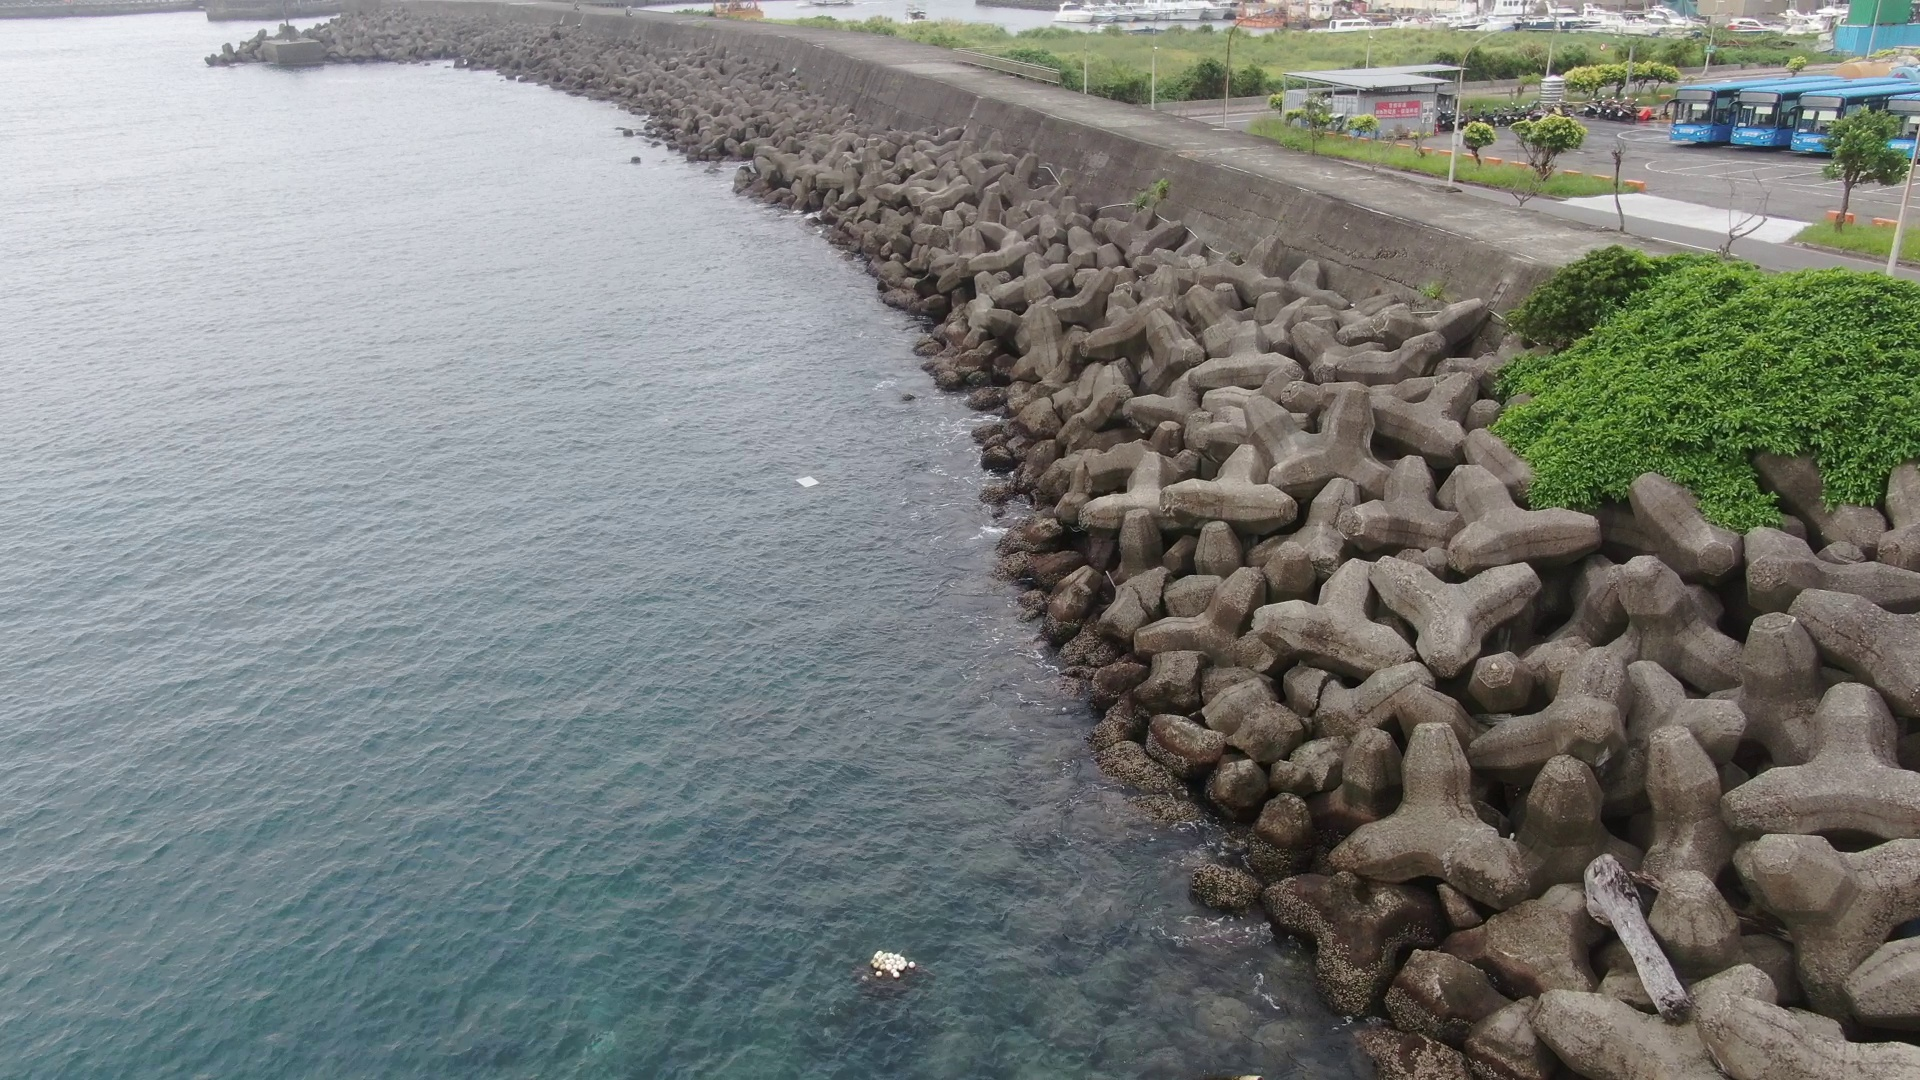garbage: (862, 936, 923, 988), (793, 472, 823, 493)
